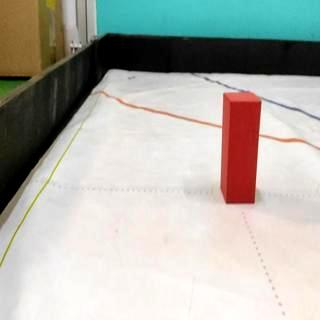redbox: (221, 91, 263, 204)
